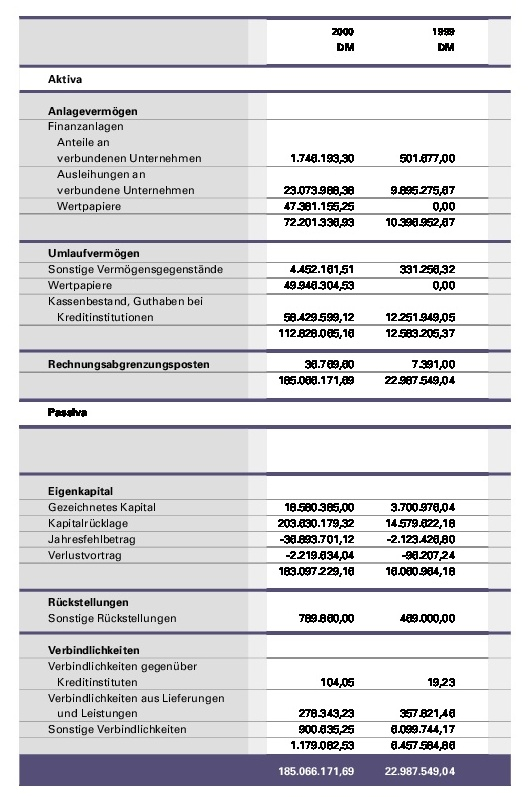table: (0, 0, 529, 797)
